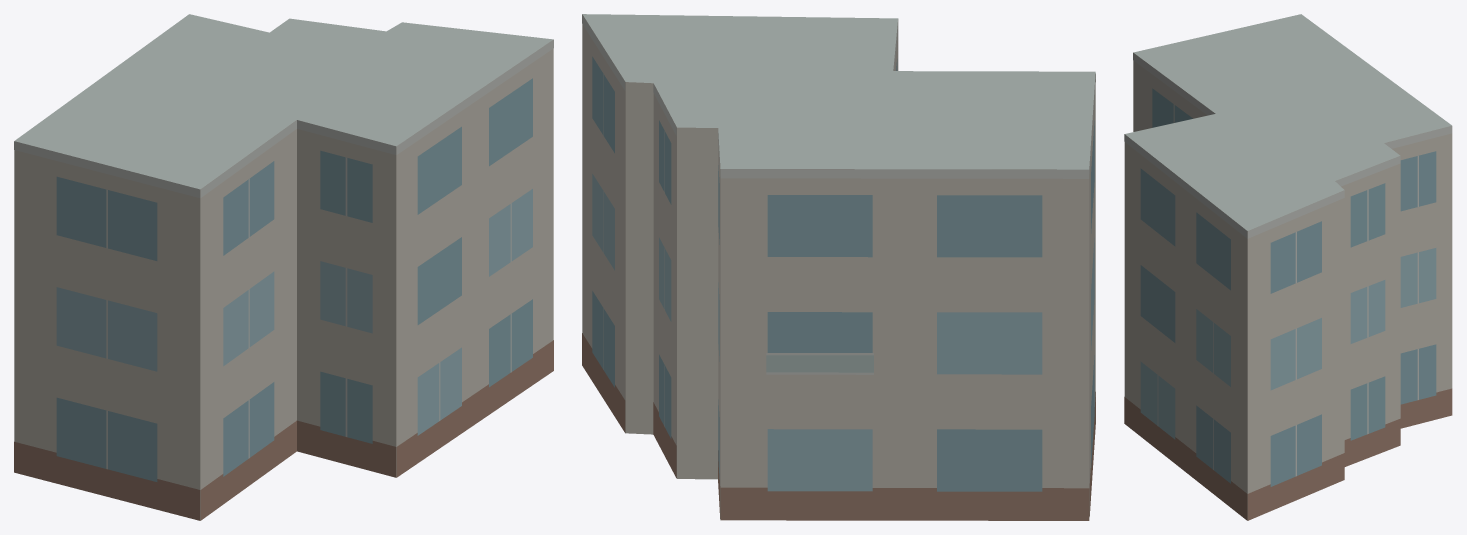
Rendered from survey-upis-32732346.glb.
3 renders of one model, left to right at view 1: azimuth 30°, elevation 25°; view 2: azimuth 150°, elevation 25°; view 3: azimuth 270°, elevation 25°, orthographic. The views are drawn at different scales.
Visible parts, largest first — view 1: survey-upis-32732346.tmp; view 2: survey-upis-32732346.tmp; view 3: survey-upis-32732346.tmp.
Part boxes in pixels (x1,y1,x2,y2): survey-upis-32732346.tmp: (14, 14, 553, 520); survey-upis-32732346.tmp: (582, 14, 1095, 520); survey-upis-32732346.tmp: (1124, 14, 1452, 520).
Size of the model in its own units: 14.71 by 9.15 by 9.39.
